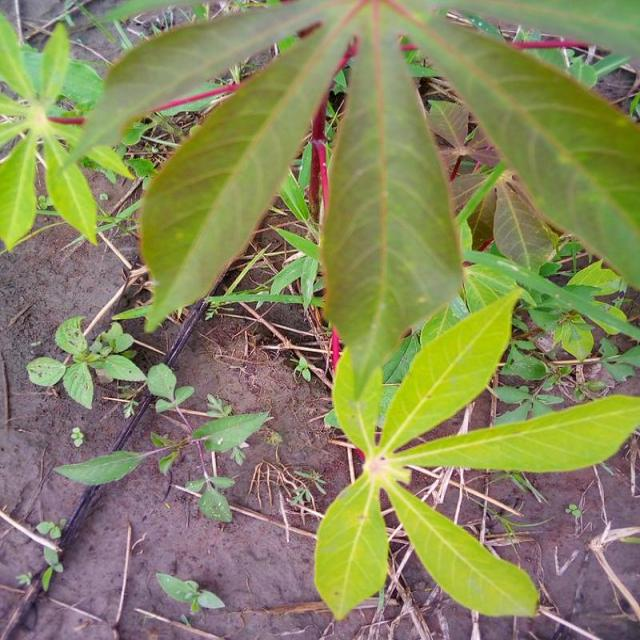cassava leaf: (138, 13, 354, 333), (318, 1, 464, 449), (377, 285, 524, 454), (382, 472, 539, 618), (313, 470, 389, 621)
